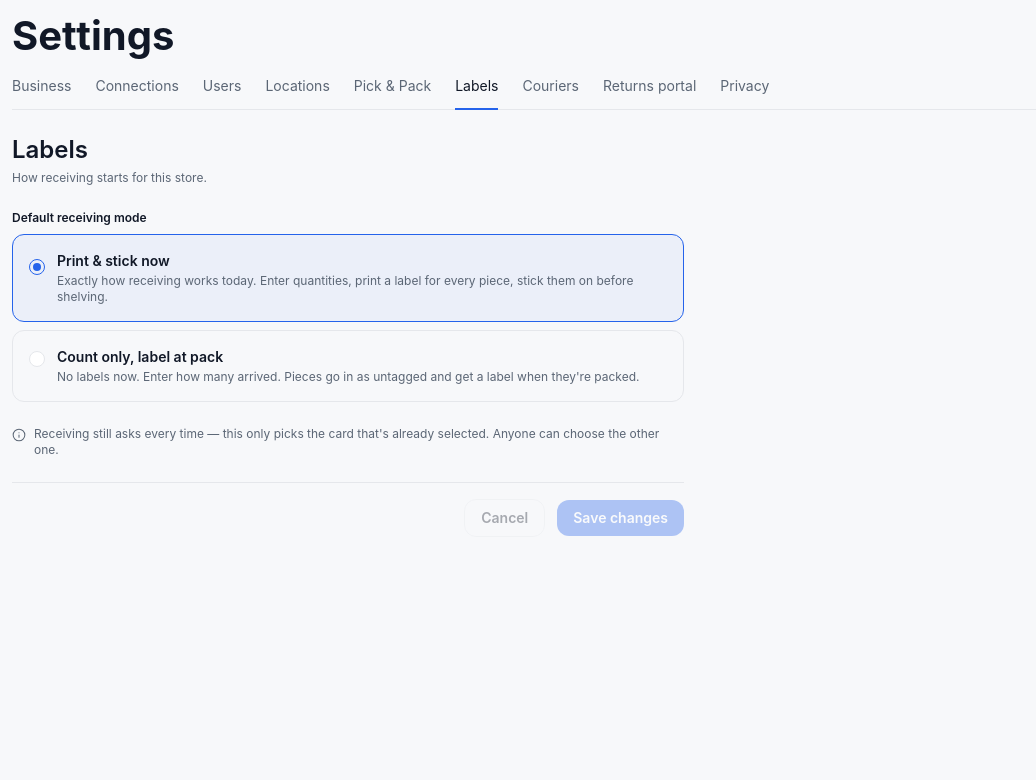
Test: Slice 8 — Settings › Labels › sl1b — switch on: the owner saves the default receiving mode
Check: the radio button that starts with "Print & stick now" is checked, box [12,234,684,322]
Click the radio button with test id "labels-mode-count_only". click: [348, 366]
box: [12,330,684,402]
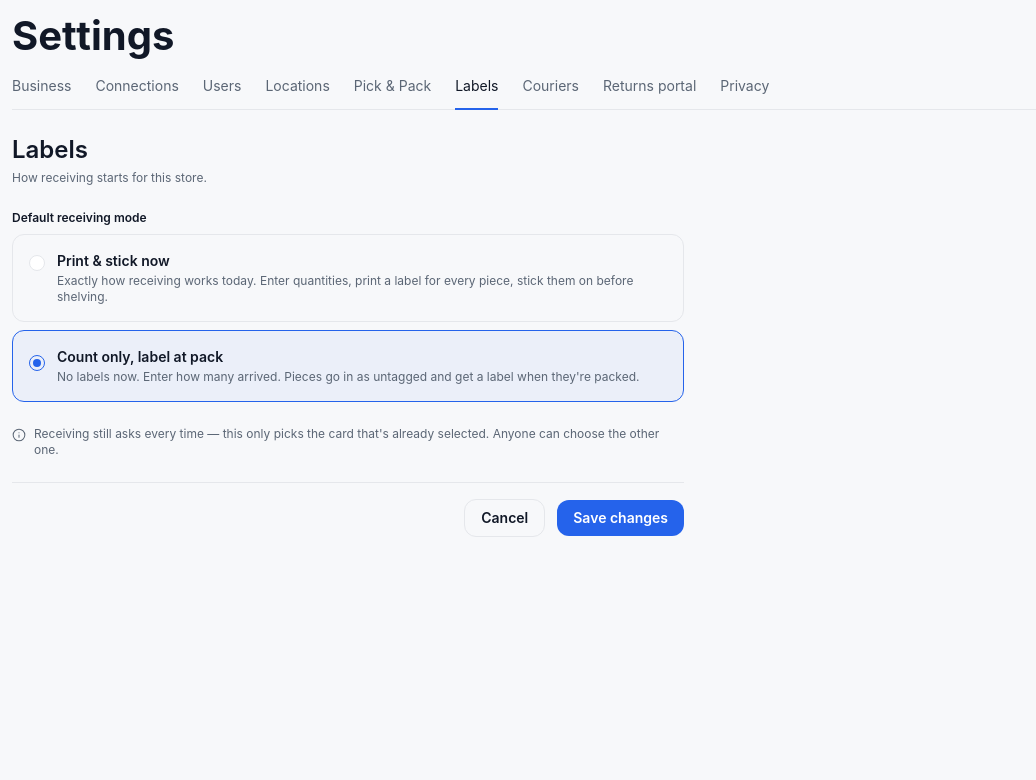
Click the button with test id "labels-save". click: [621, 518]
box: [557,500,684,536]
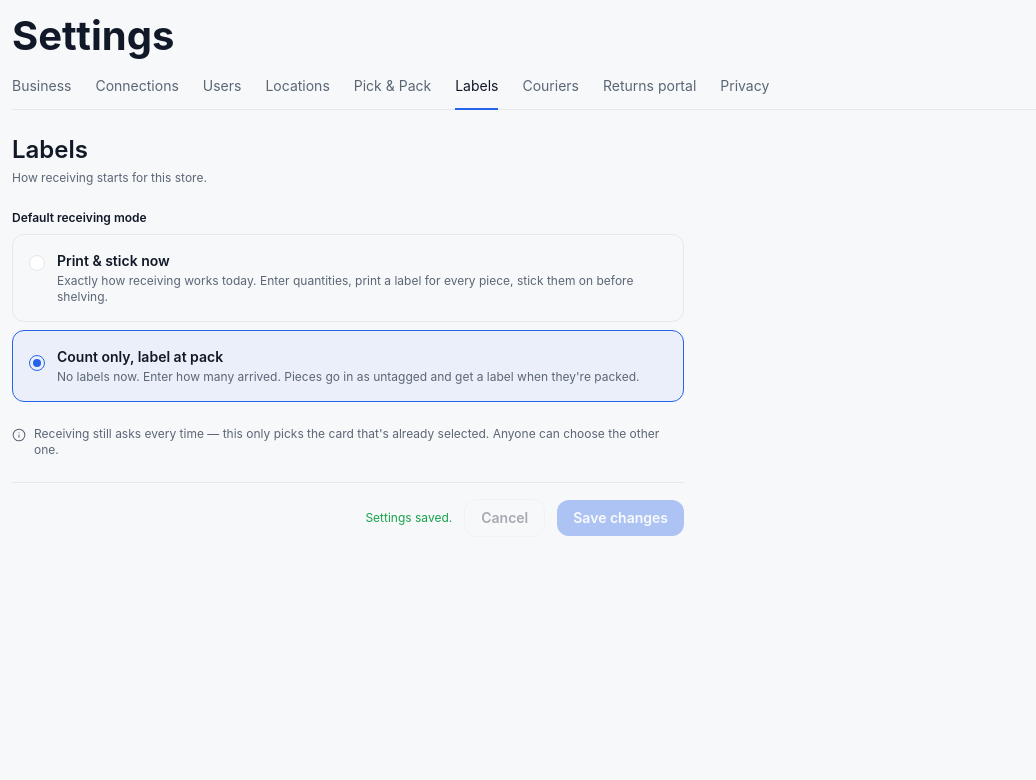
Check: the message "Settings saved." is shown, box [365,510,452,526]
